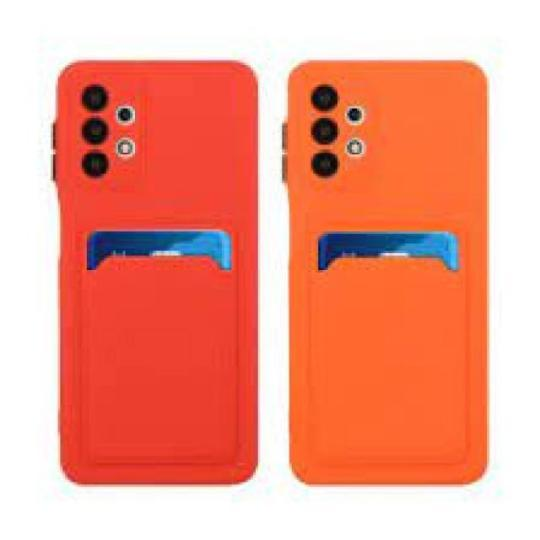phone: (277, 50, 496, 487), (50, 54, 258, 488)
